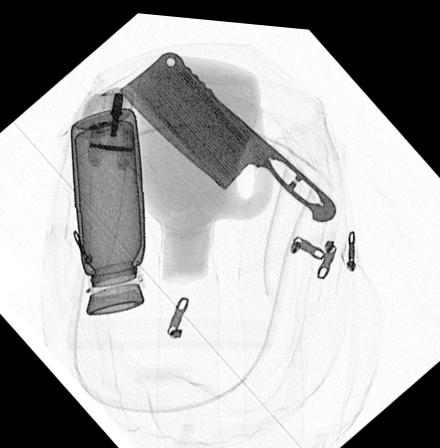Knife: (117, 45, 337, 215)
